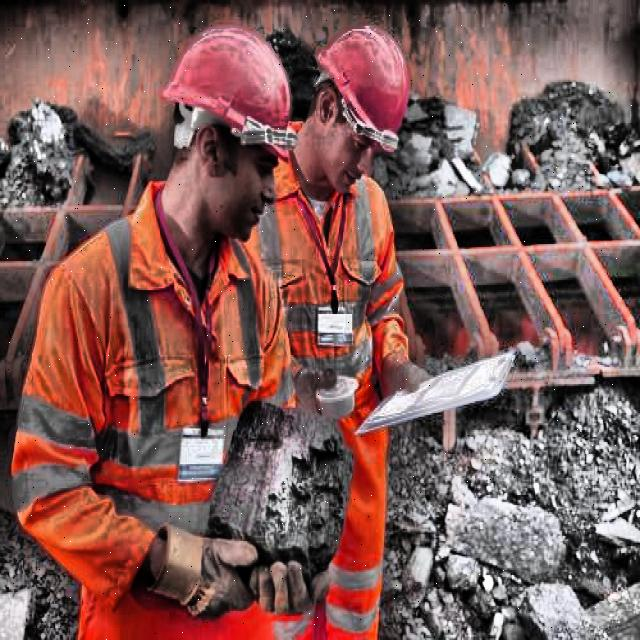helmet: (147, 8, 298, 245), (298, 13, 424, 195)
